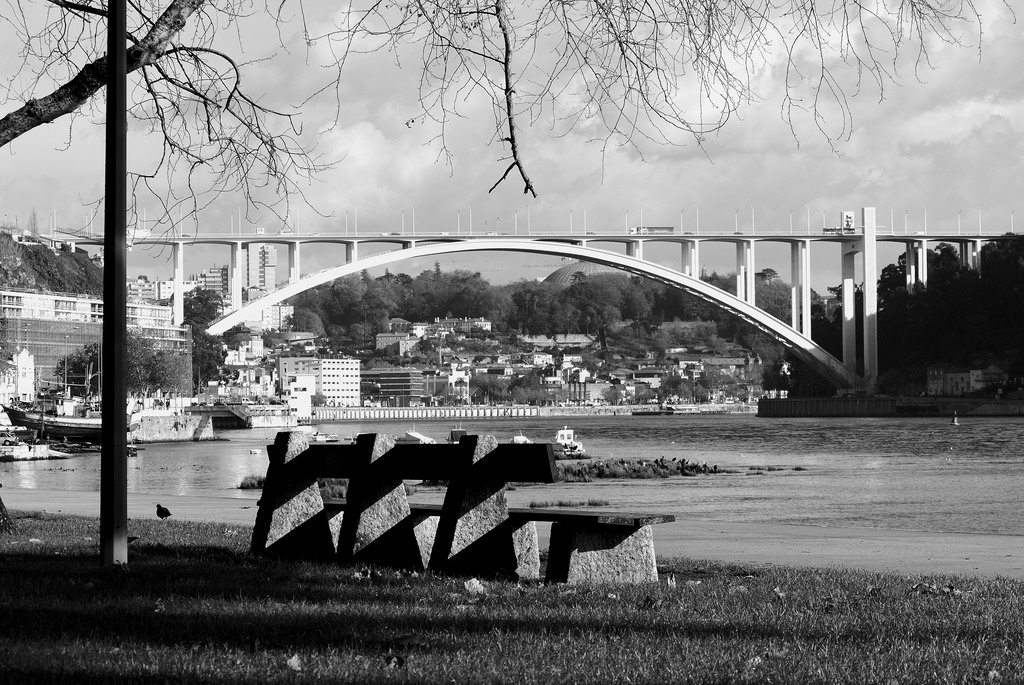arrabida: (18, 207, 1016, 395)
